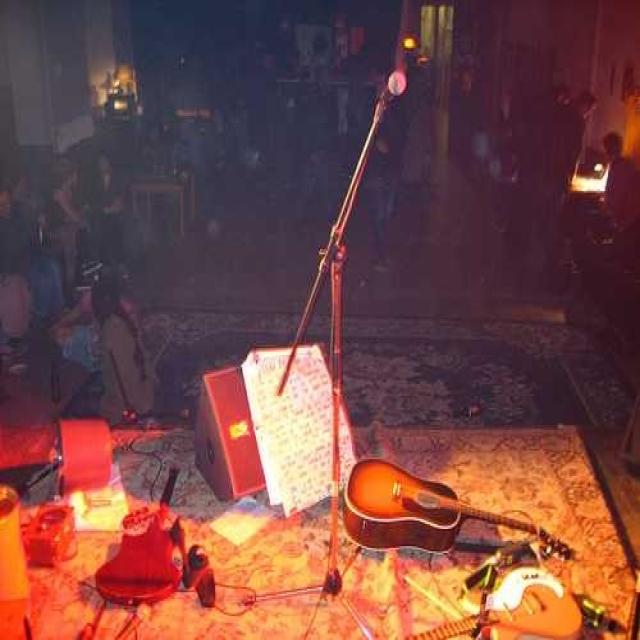microphone: (372, 72, 405, 122)
